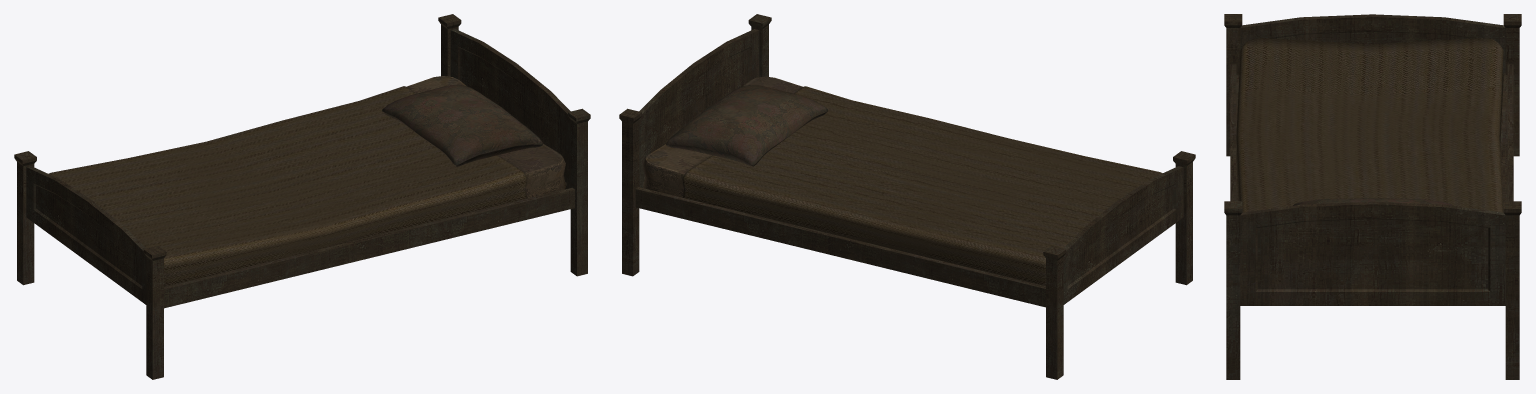
Rendered from bed_5_4.glb.
3 views of the same model, side by side, from view 1: azimuth 30°, elevation 25°; view 2: azimuth 150°, elevation 25°; view 3: azimuth 270°, elevation 25° (orthographic). The views are drawn at different scales.
Visible parts, largest first — view 1: bed_5_4; view 2: bed_5_4; view 3: bed_5_4.
Part boxes in pixels (box(x1,y1,x2,y2)): bed_5_4: box(14, 14, 590, 379); bed_5_4: box(619, 14, 1195, 379); bed_5_4: box(1224, 14, 1521, 379).
Size of the model in its own units: 2.74 by 0.9621 by 1.49.
Materials: 3 (3 with a texture image).
